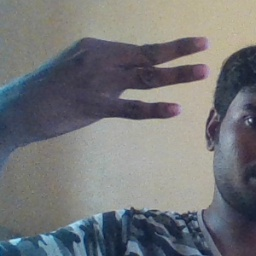K: (22, 35, 212, 143)
